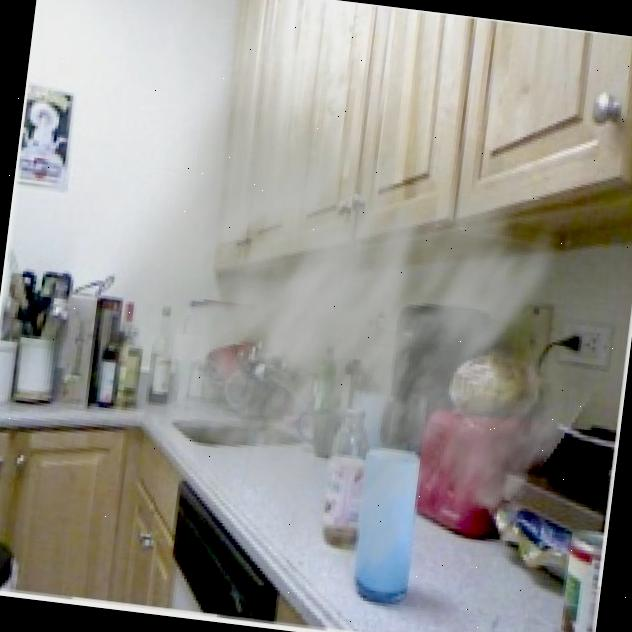smoke: (48, 0, 632, 625)
